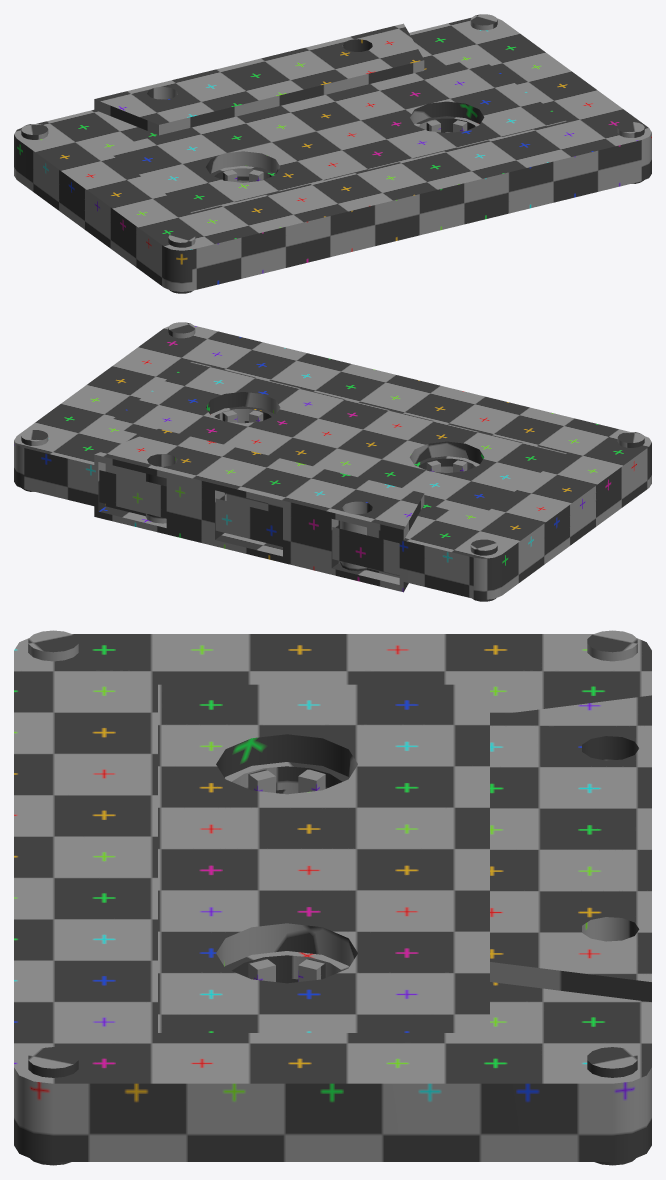
Rendered from cassette.glb.
3 renders of one model, top to bottom at view 1: azimuth 30°, elevation 25°; view 2: azimuth 150°, elevation 25°; view 3: azimuth 270°, elevation 25°, orthographic. The views are drawn at different scales.
Parts seen in each view (by area): view 1: Model, ReelLeft, ReelRight; view 2: Model, ReelLeft, ReelRight; view 3: Model, ReelRight, ReelLeft.
Part boxes in pixels (bbox=[...]): Model: bbox=[14, 14, 651, 293]; ReelLeft: bbox=[414, 116, 479, 132]; ReelRight: bbox=[210, 166, 275, 182]; Model: bbox=[14, 322, 651, 601]; ReelLeft: bbox=[210, 406, 275, 422]; ReelRight: bbox=[414, 456, 479, 472]; Model: bbox=[14, 630, 651, 1165]; ReelRight: bbox=[225, 762, 348, 792]; ReelLeft: bbox=[225, 951, 348, 981].
Size of the model in its own units: 2.74 by 0.3367 by 1.64.
2 materials, 2 textured.
